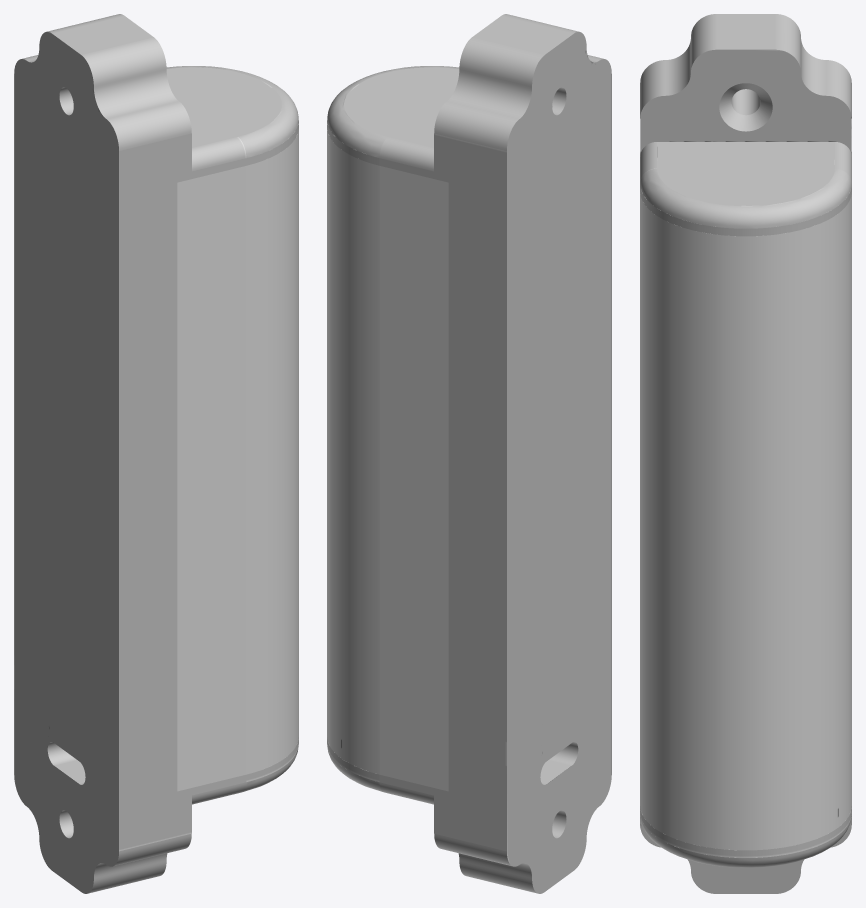
The model's file is lamp_assy.dae.
3 views of the same model, side by side, from view 1: azimuth 30°, elevation 25°; view 2: azimuth 150°, elevation 25°; view 3: azimuth 270°, elevation 25° (orthographic).
Parts seen in each view (by area): view 1: Object, Object.001; view 2: Object, Object.001; view 3: Object.001, Object.
Boxes of the visible parts, x1,y1,x2,y2 form: Object: (14,14,298,893); Object.001: (177,124,298,791); Object: (327,14,611,893); Object.001: (327,128,448,791); Object.001: (640,160,851,850); Object: (640,14,851,893).
Size of the model in its own units: 0.03 by 0.025 by 0.11.
Materials: 1 (1 with a texture image).
